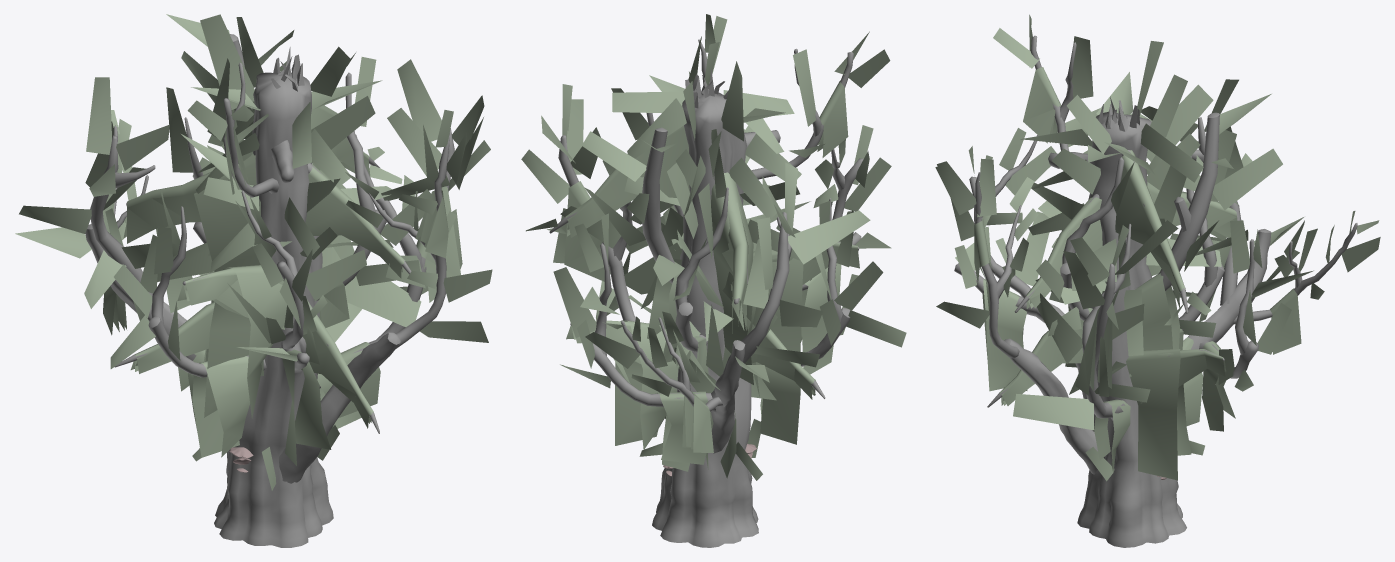
Rendered from SM_Swamp_Tree_03.fbx.
The picture shows the model from 3 angles, left to right: view 1: azimuth 30°, elevation 25°; view 2: azimuth 150°, elevation 25°; view 3: azimuth 270°, elevation 25°; orthographic projection. The views are drawn at different scales.
Visible parts, largest first — view 1: SM_Swamp_Tree_03_LOD0; view 2: SM_Swamp_Tree_03_LOD0; view 3: SM_Swamp_Tree_03_LOD0.
Boxes of the visible parts, left/top/right/bottom form: SM_Swamp_Tree_03_LOD0: left=15, top=14, right=492, bottom=547; SM_Swamp_Tree_03_LOD0: left=521, top=14, right=906, bottom=547; SM_Swamp_Tree_03_LOD0: left=935, top=14, right=1380, bottom=547.
Size of what is drawn, in the model's own units: 667 by 824 by 716.
